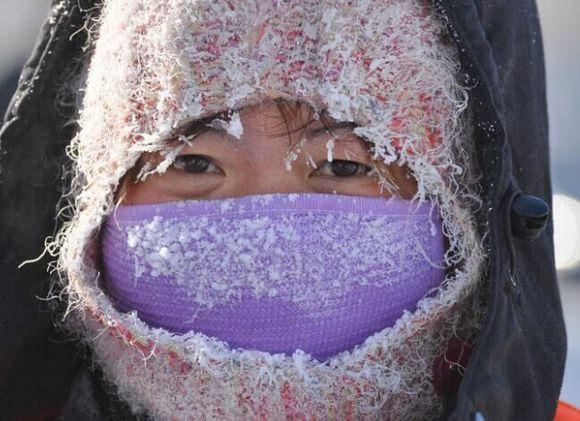OK: (120, 117, 418, 406)
